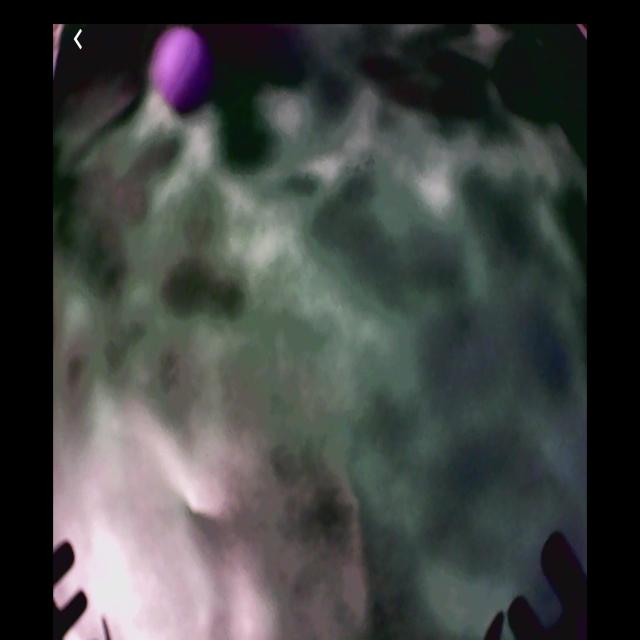ball: (151, 29, 211, 113)
